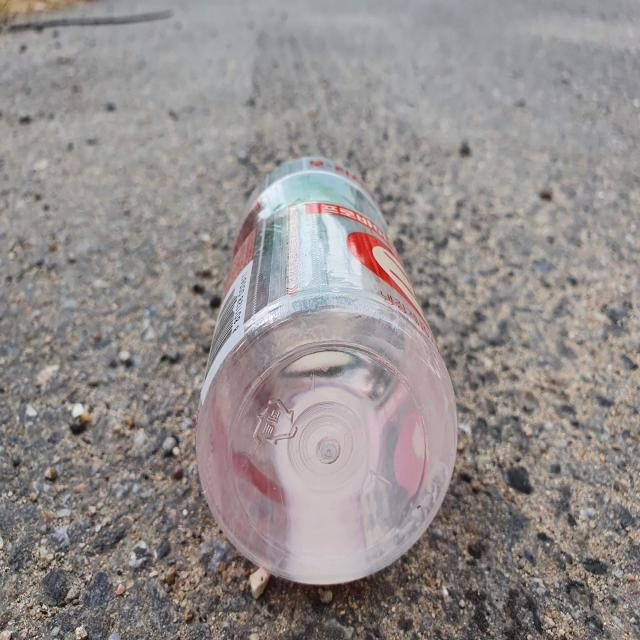plastic: (196, 156, 458, 585)
